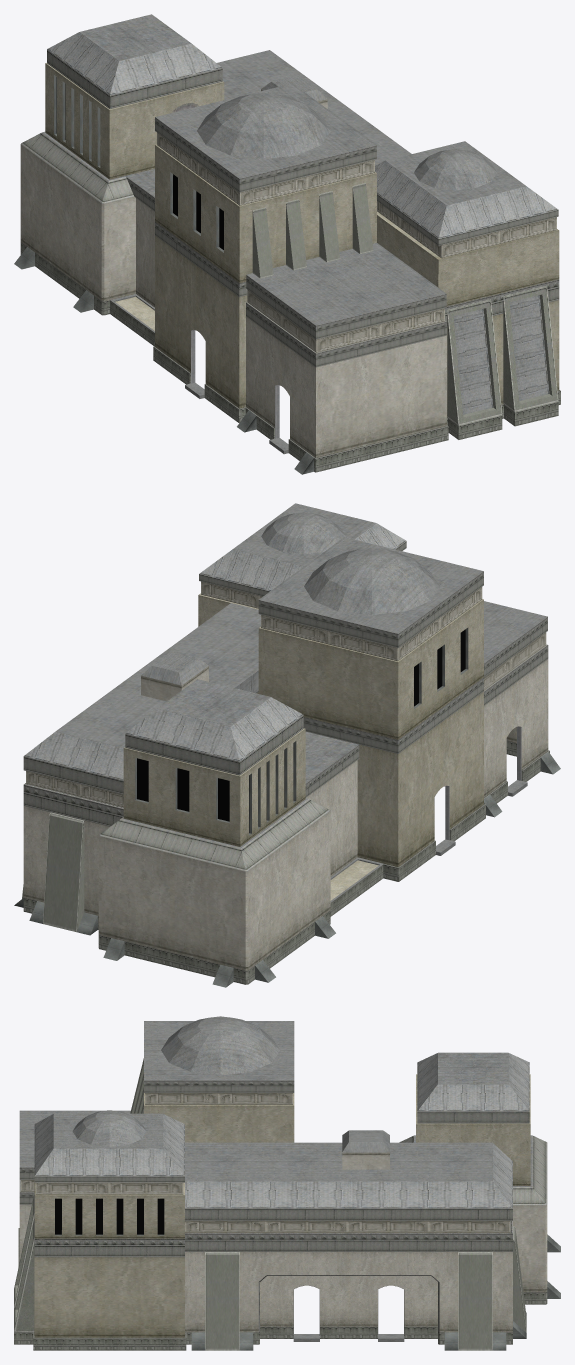
File: thm_corl_imprv_historic_32x16_s01_r0_mesh_l0.fbx
3 renders of one model, top to bottom at view 1: azimuth 30°, elevation 25°; view 2: azimuth 150°, elevation 25°; view 3: azimuth 270°, elevation 25°, orthographic. The views are drawn at different scales.
Visible parts, largest first — view 1: mesh_node; view 2: mesh_node; view 3: mesh_node.
Part boxes in pixels (x1,y1,x2,y2): mesh_node: (14,14,560,474); mesh_node: (14,503,560,987); mesh_node: (14,1016,560,1350).
Size of the model in its own units: 16 by 15.78 by 32.
